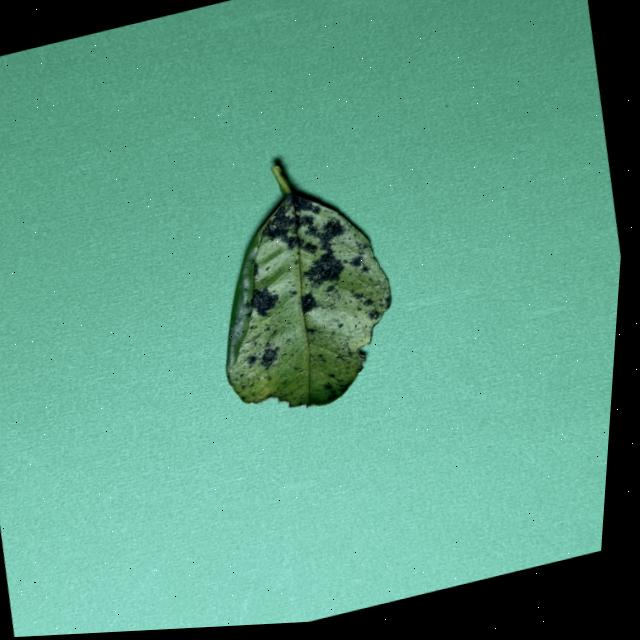sooty_mold: (225, 166, 390, 406)
